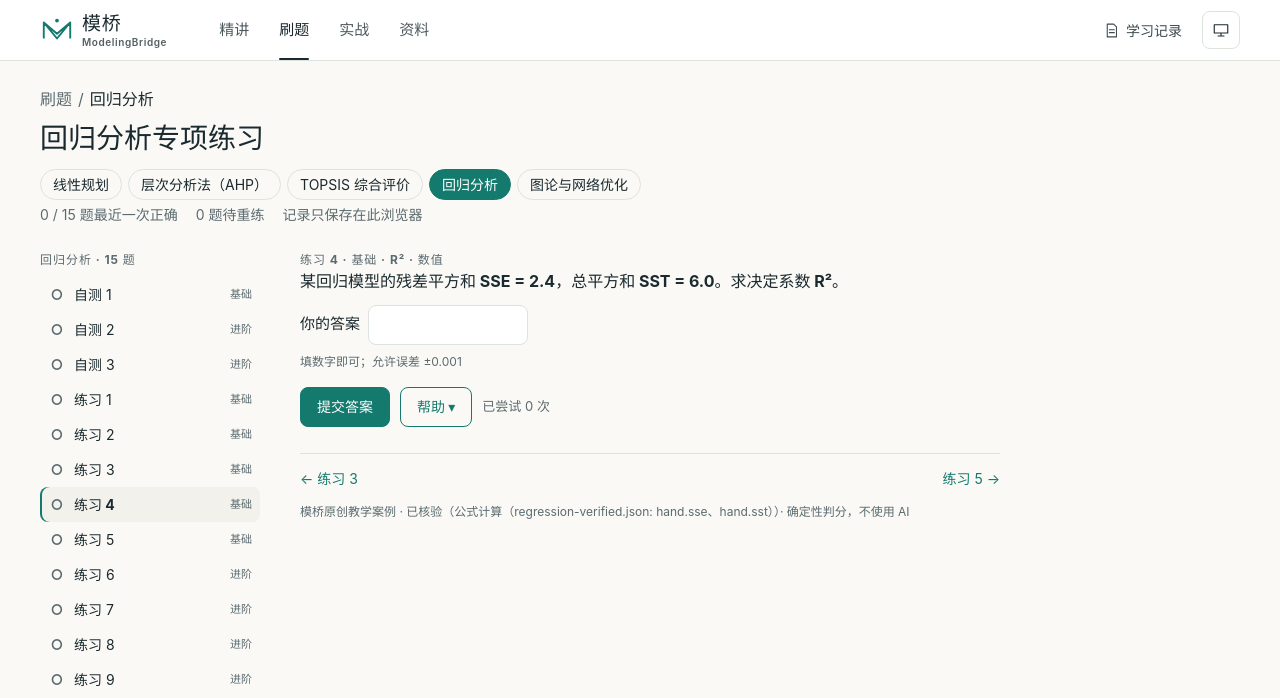
Test: practice loop › diagnoses an R² mistake, sends the learner to the section and brings them back
This screenshot has width=1280, height=698.
Expected: the heading "回归分析专项练习" is shown, [40,121,264,155]
Type "0.4" into the field named "你的数值答案" at (448, 325), box [368,305,528,345]
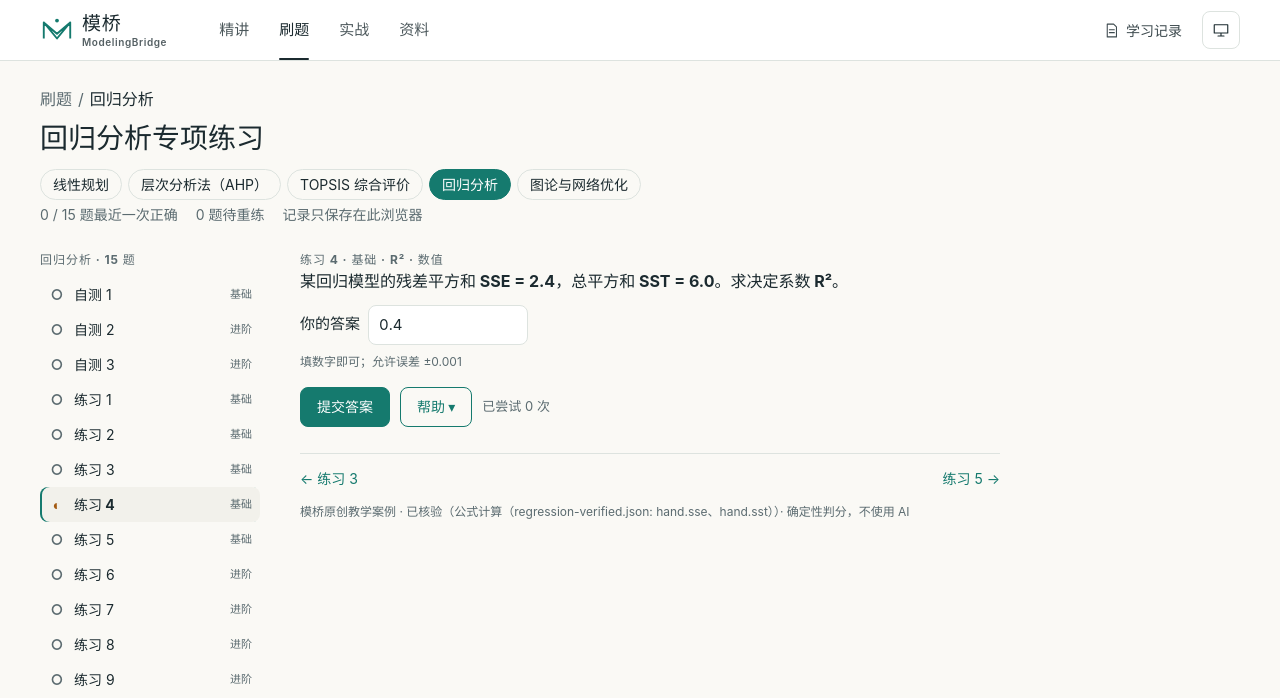
Click the button "提交答案" at (345, 407), box [300,387,390,427]
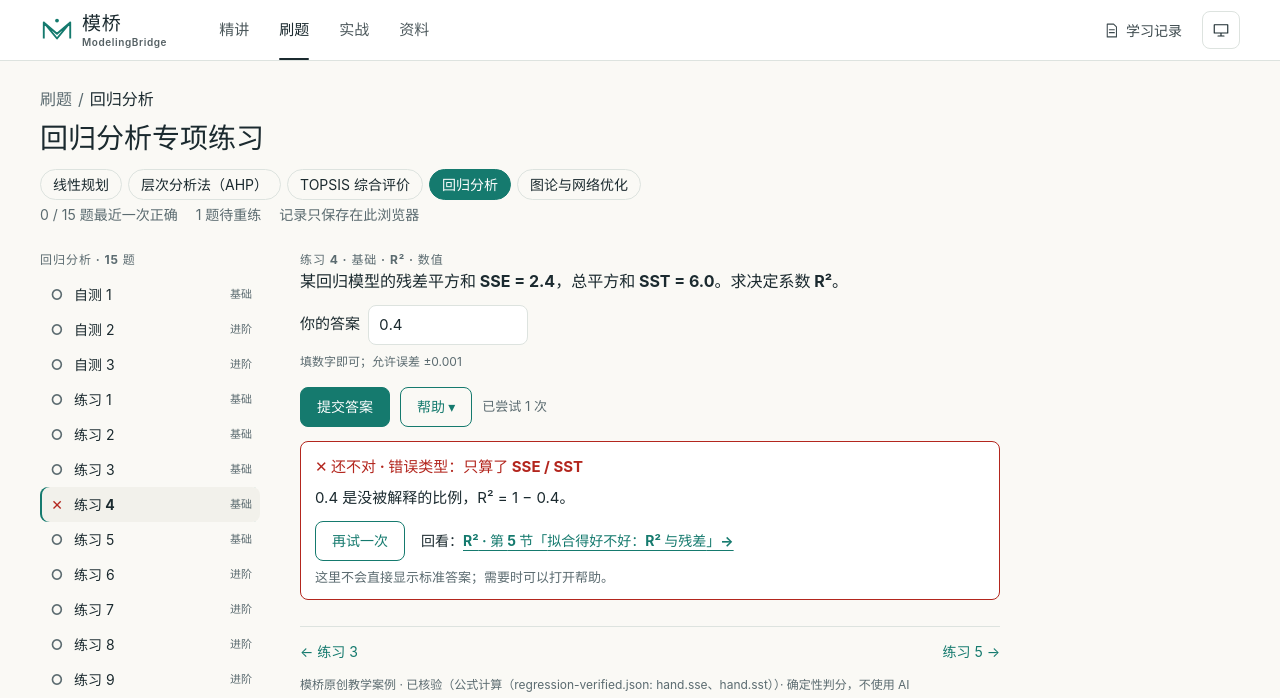
Now the text "✕ 还不对 · 错误类型：只算了 SSE / SST" is shown, box [315,457,583,476]
Click the button "R² · 第 5 节「拟合得好不好：R² 与残差」→" at (598, 541), box [463,529,734,552]
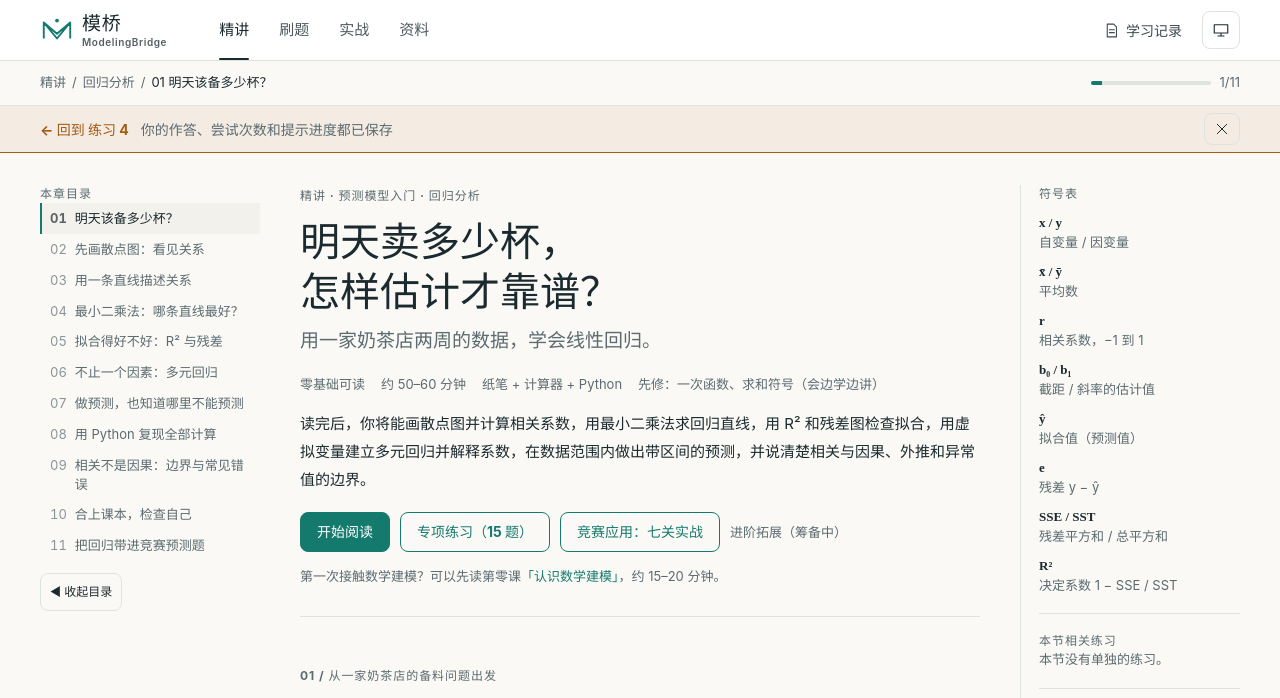
Click the link "← 回到 练习 4" at (84, 129), box [40,118,129,140]
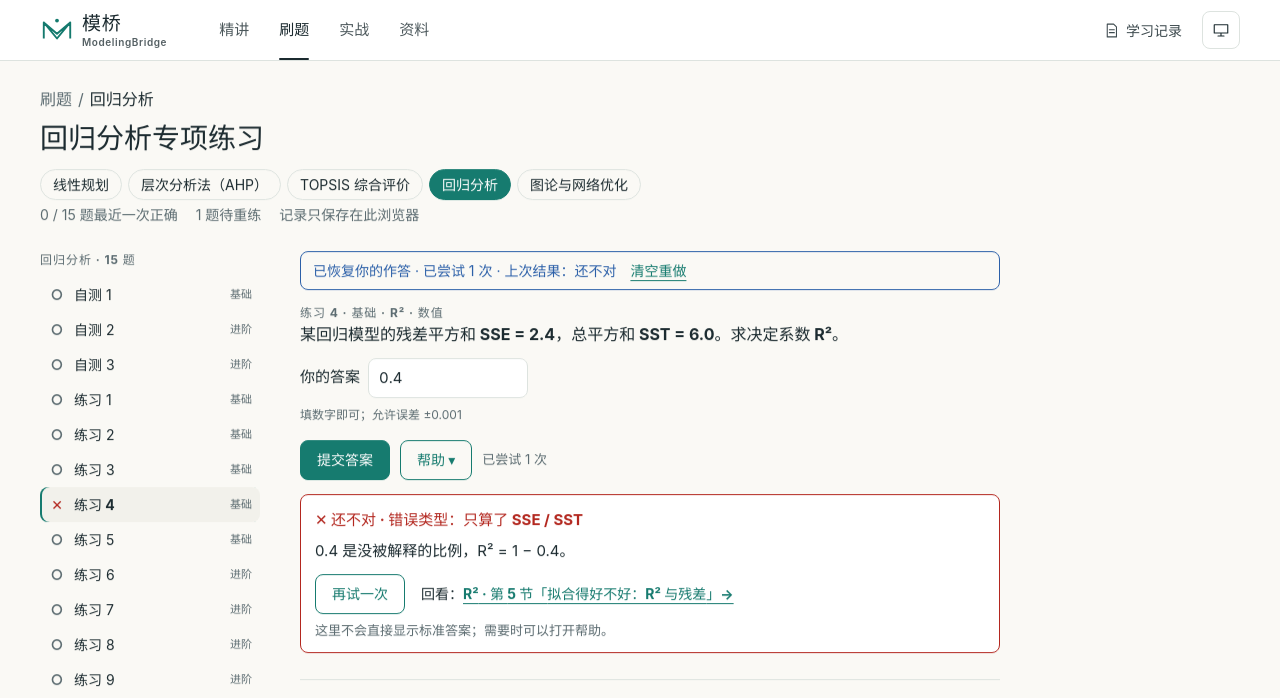
Now the field named "你的数值答案" holds "0.4", box [368,358,528,398]
